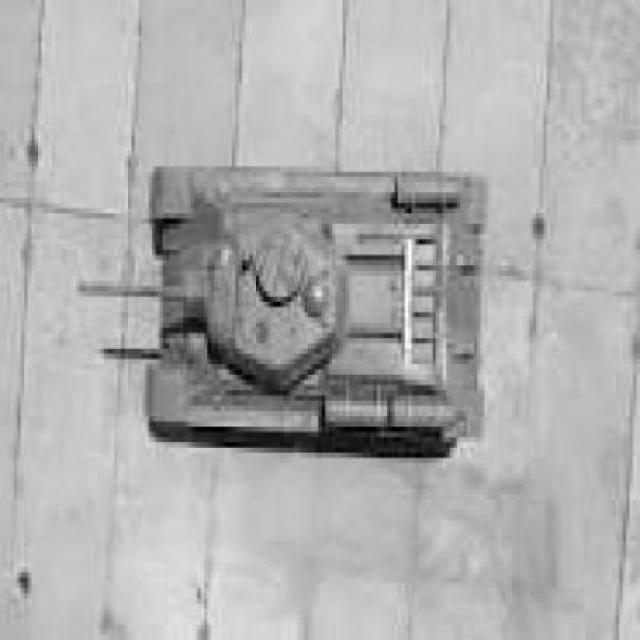tank: (74, 163, 482, 451)
